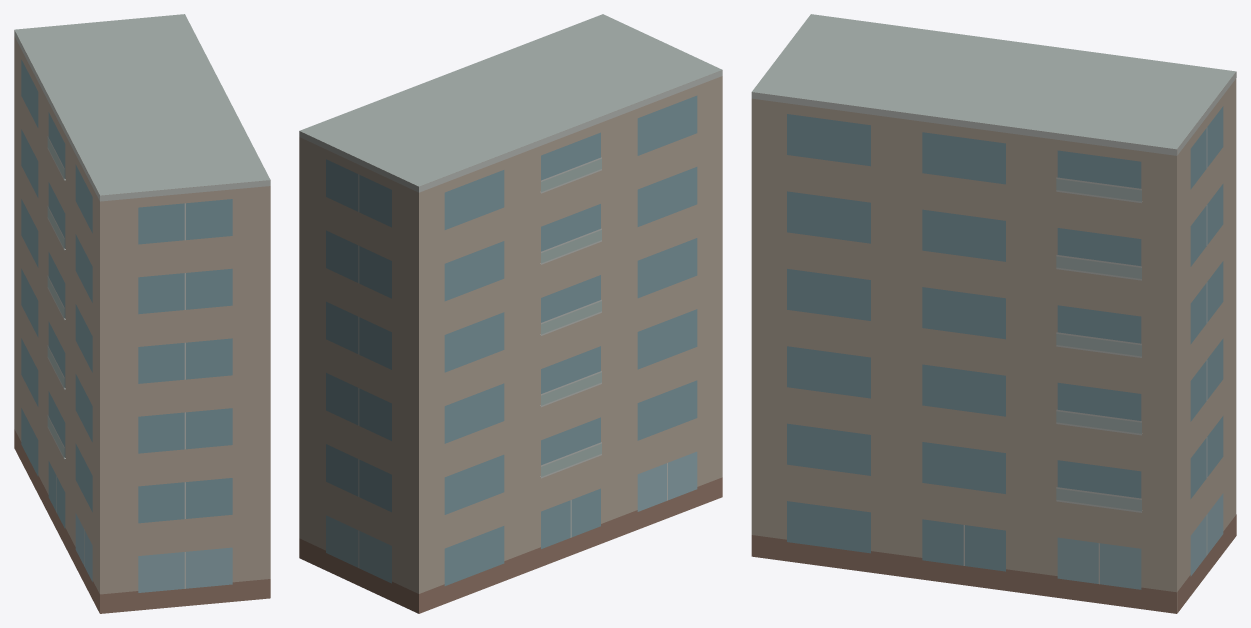
Rendered from survey-upis-32528124.glb.
The picture shows the model from 3 angles, left to right: view 1: azimuth 30°, elevation 25°; view 2: azimuth 150°, elevation 25°; view 3: azimuth 270°, elevation 25°; orthographic projection. The views are drawn at different scales.
Visible parts, largest first — view 1: survey-upis-32528124.tmp; view 2: survey-upis-32528124.tmp; view 3: survey-upis-32528124.tmp.
Part boxes in pixels (left/top/right/bottom): survey-upis-32528124.tmp: left=14, top=14, right=270, bottom=613; survey-upis-32528124.tmp: left=299, top=14, right=722, bottom=613; survey-upis-32528124.tmp: left=751, top=14, right=1236, bottom=613.
Size of the model in its own units: 10.76 by 17.2 by 16.28.
